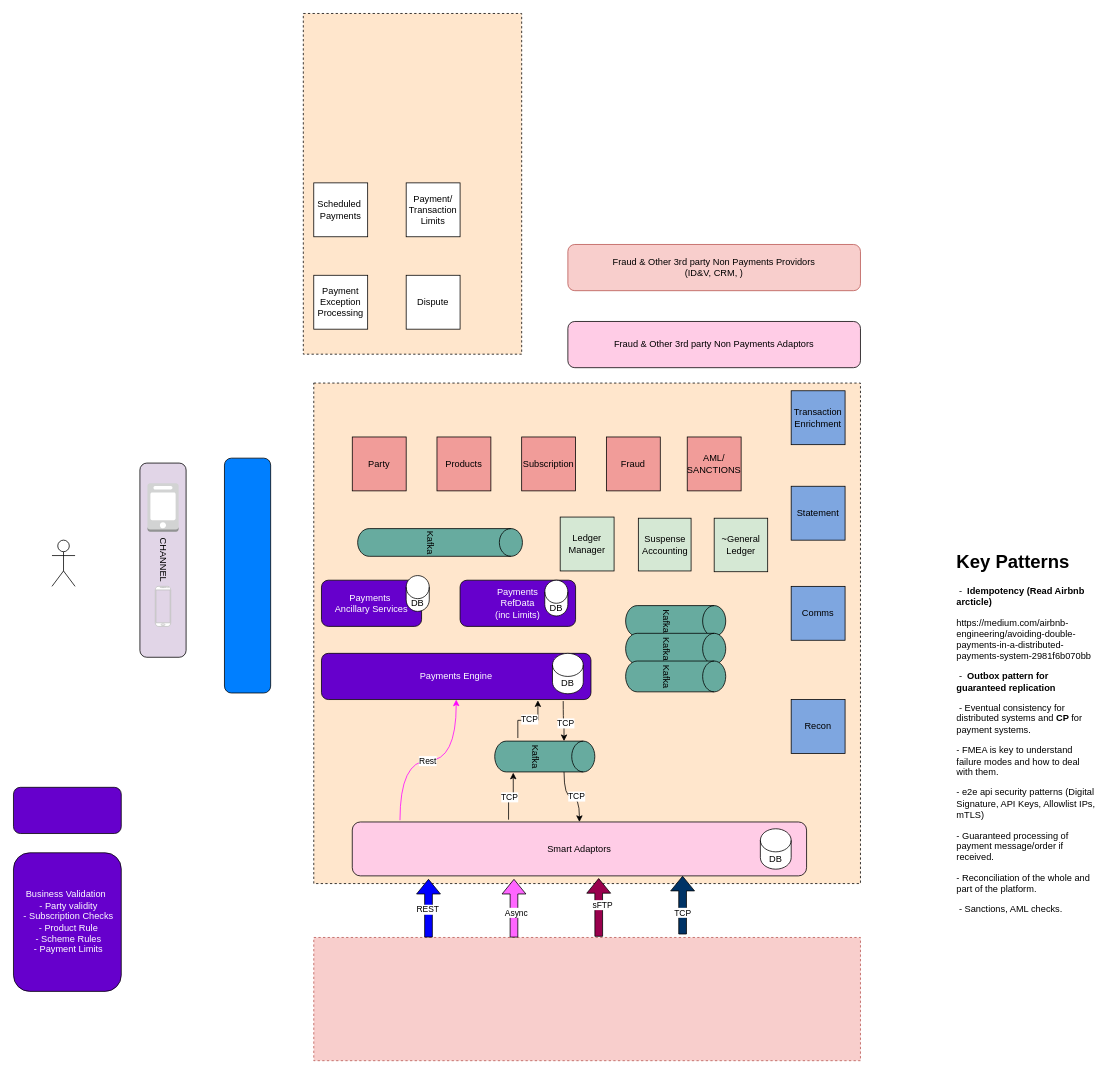
This 1113x1074 diagram has some shape labels left out. The shapes that lost their labels are listed below. From the top down, each one's centre as x and y in pixels, then its label:
[63,562]: Actor
[247,575]: API Gateway
[67,810]: Technical validation
[586,999]: Schemes / PSPs
